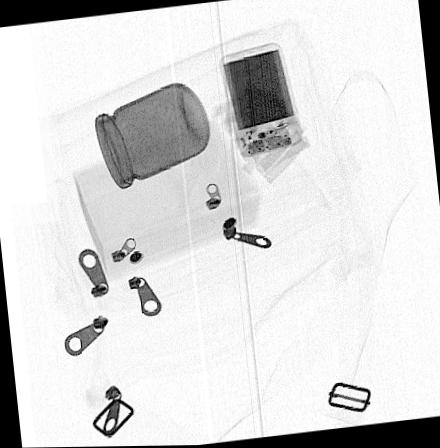Powerbank: (218, 42, 303, 159)
